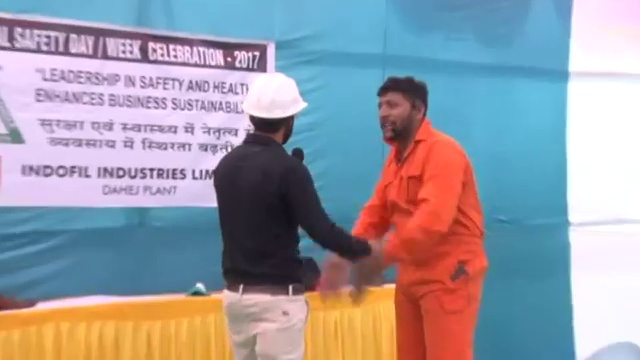helmet: (240, 72, 309, 120)
helmet_off: (376, 77, 430, 141)
helmet_on: (239, 72, 307, 150)
person: (214, 72, 372, 360), (351, 73, 487, 360)
